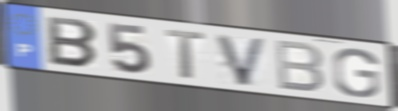5: (105, 21, 154, 75)
B: (45, 14, 100, 70), (273, 38, 326, 94)
G: (330, 47, 382, 99)
T: (164, 29, 208, 81)
V: (213, 32, 270, 88)
